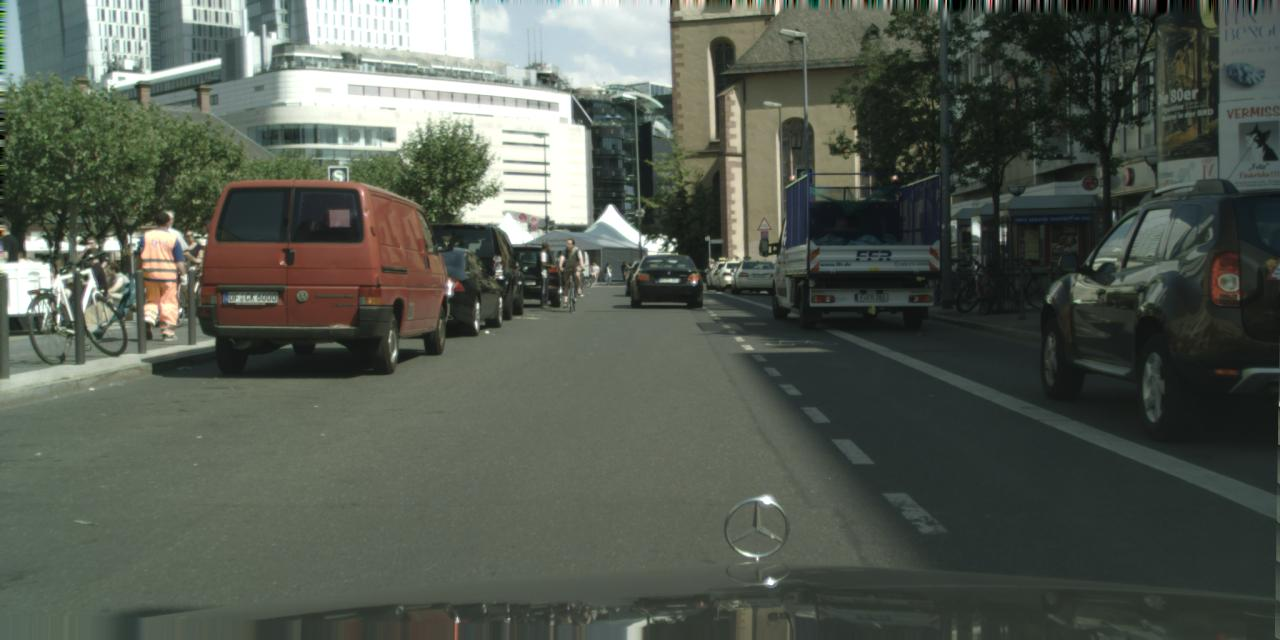ped: (133, 211, 186, 341), (142, 209, 190, 327), (0, 218, 31, 336), (173, 230, 208, 316), (74, 249, 106, 329), (530, 241, 558, 310), (78, 237, 104, 302), (558, 238, 584, 300), (706, 259, 717, 285), (604, 262, 613, 286), (590, 262, 598, 284), (619, 261, 627, 280)
